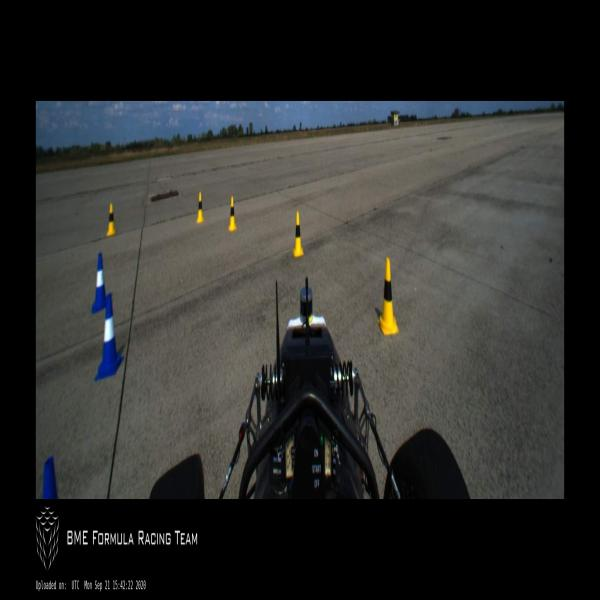blue_cone: (95, 294, 123, 380), (92, 253, 106, 313)
yellow_cone: (378, 258, 399, 335), (292, 210, 304, 256), (106, 203, 116, 236), (228, 196, 236, 232), (197, 192, 204, 223)
